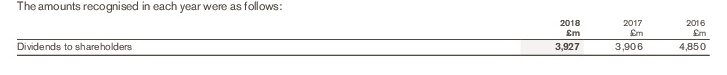table: (0, 0, 727, 75)
